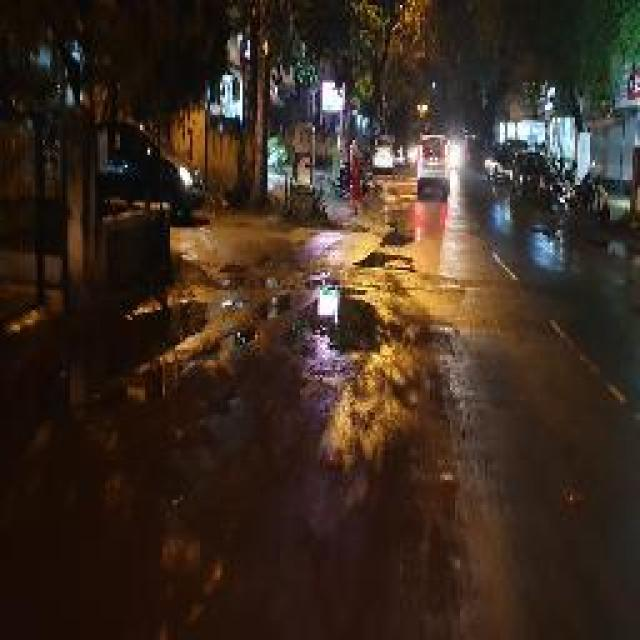stagnation: (302, 272, 380, 360)
